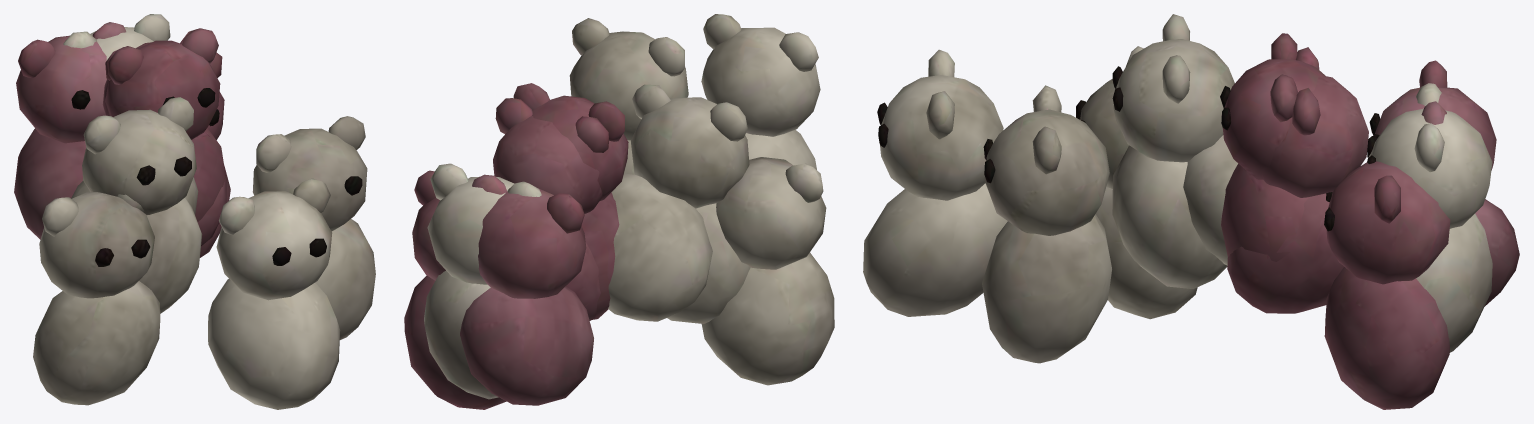
File: plush_pile.glb
3 views of the same model, side by side, from view 1: azimuth 30°, elevation 25°; view 2: azimuth 150°, elevation 25°; view 3: azimuth 270°, elevation 25° (orthographic). The views are drawn at different scales.
Visible parts, largest first — view 1: Main; view 2: Main; view 3: Main.
Boxes of the visible parts, x1,y1,x2,y2 form: Main: (14,14,375,409); Main: (404,14,834,409); Main: (863,14,1519,409).
Size of the model in its own units: 0.8155 by 0.7582 by 1.36.
1 material, 1 textured.
